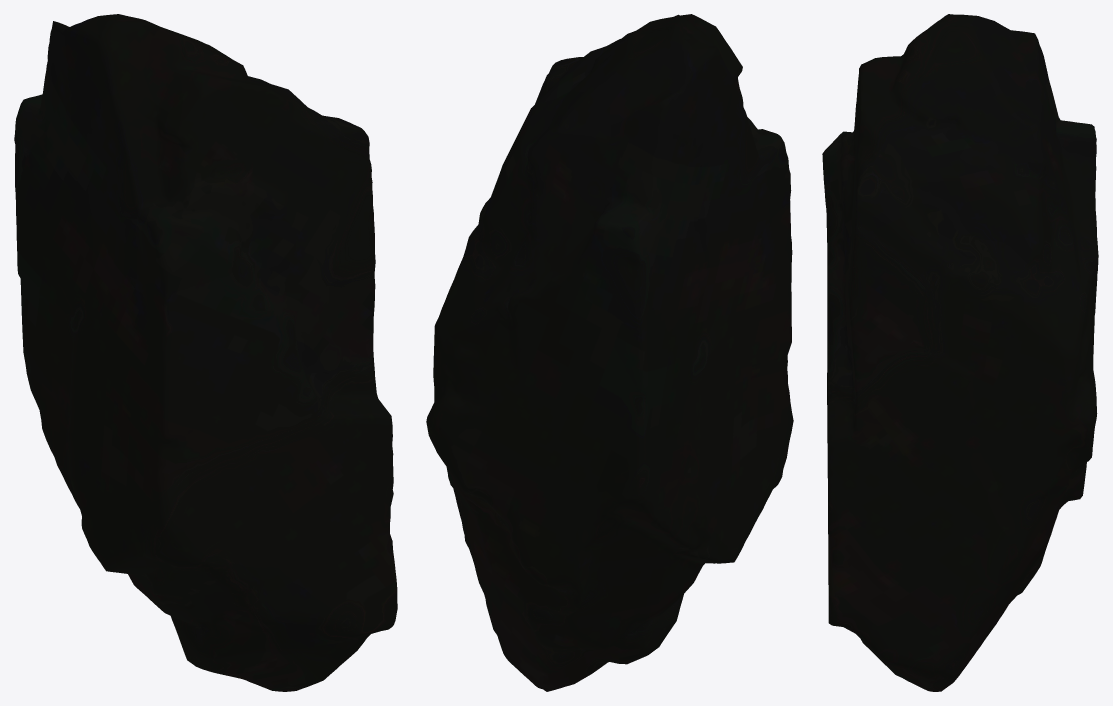
3 views of the same model, side by side, from view 1: azimuth 30°, elevation 25°; view 2: azimuth 150°, elevation 25°; view 3: azimuth 270°, elevation 25° (orthographic). The views are drawn at different scales.
Parts seen in each view (by area): view 1: SM_HL_LimestoneMid_04_LOD0; view 2: SM_HL_LimestoneMid_04_LOD0; view 3: SM_HL_LimestoneMid_04_LOD0.
Part boxes in pixels (left/top/right/bottom): SM_HL_LimestoneMid_04_LOD0: left=14, top=14, right=397, bottom=691; SM_HL_LimestoneMid_04_LOD0: left=426, top=14, right=793, bottom=691; SM_HL_LimestoneMid_04_LOD0: left=822, top=14, right=1098, bottom=691.
Size of the model in its own units: 2.19 by 6.17 by 2.53.
1 material, 1 textured.
